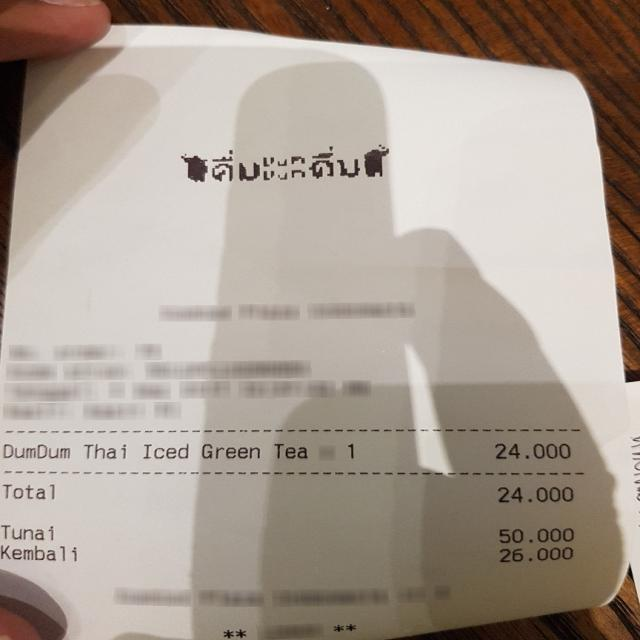kertas: (0, 26, 638, 640)
